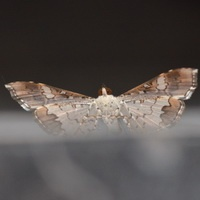insect: (5, 68, 197, 135)
